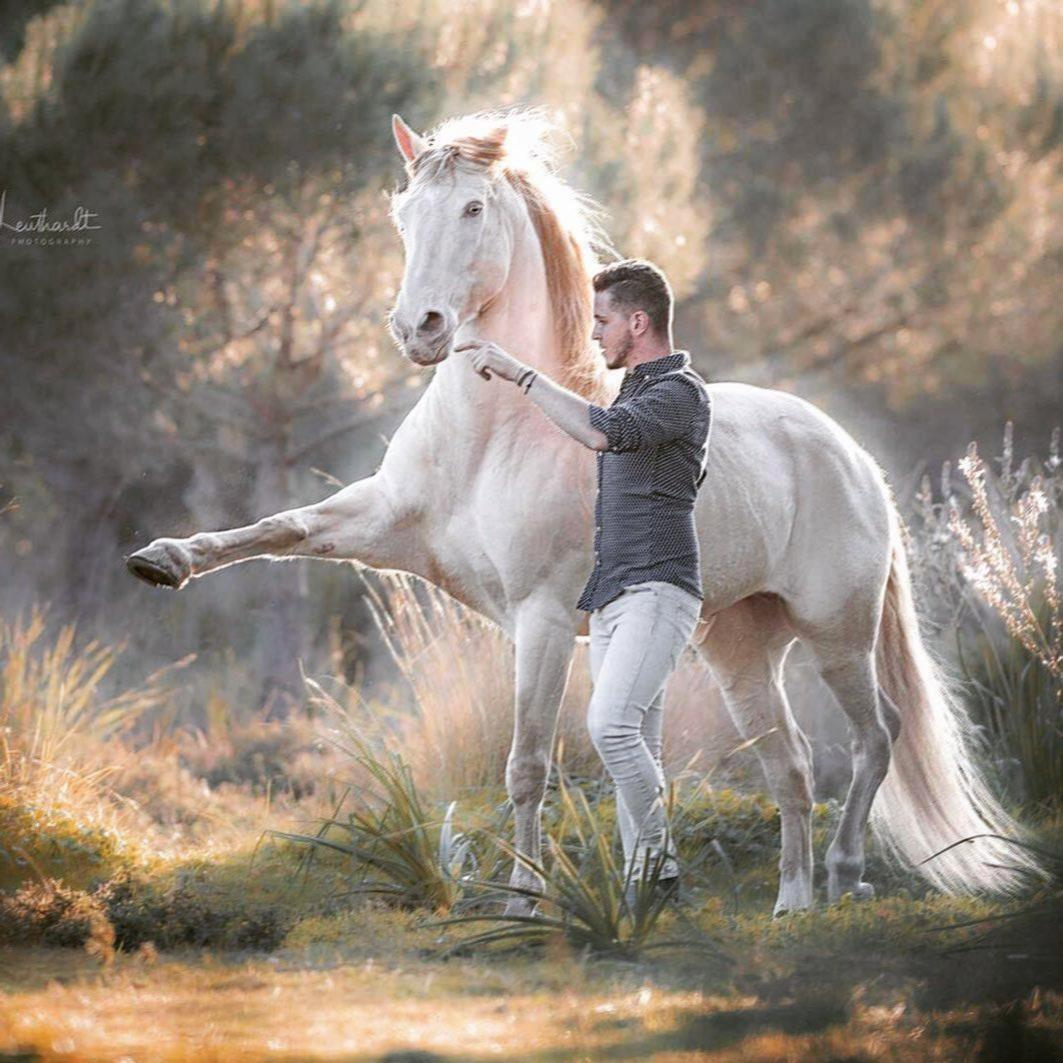horse: (124, 103, 1053, 925)
